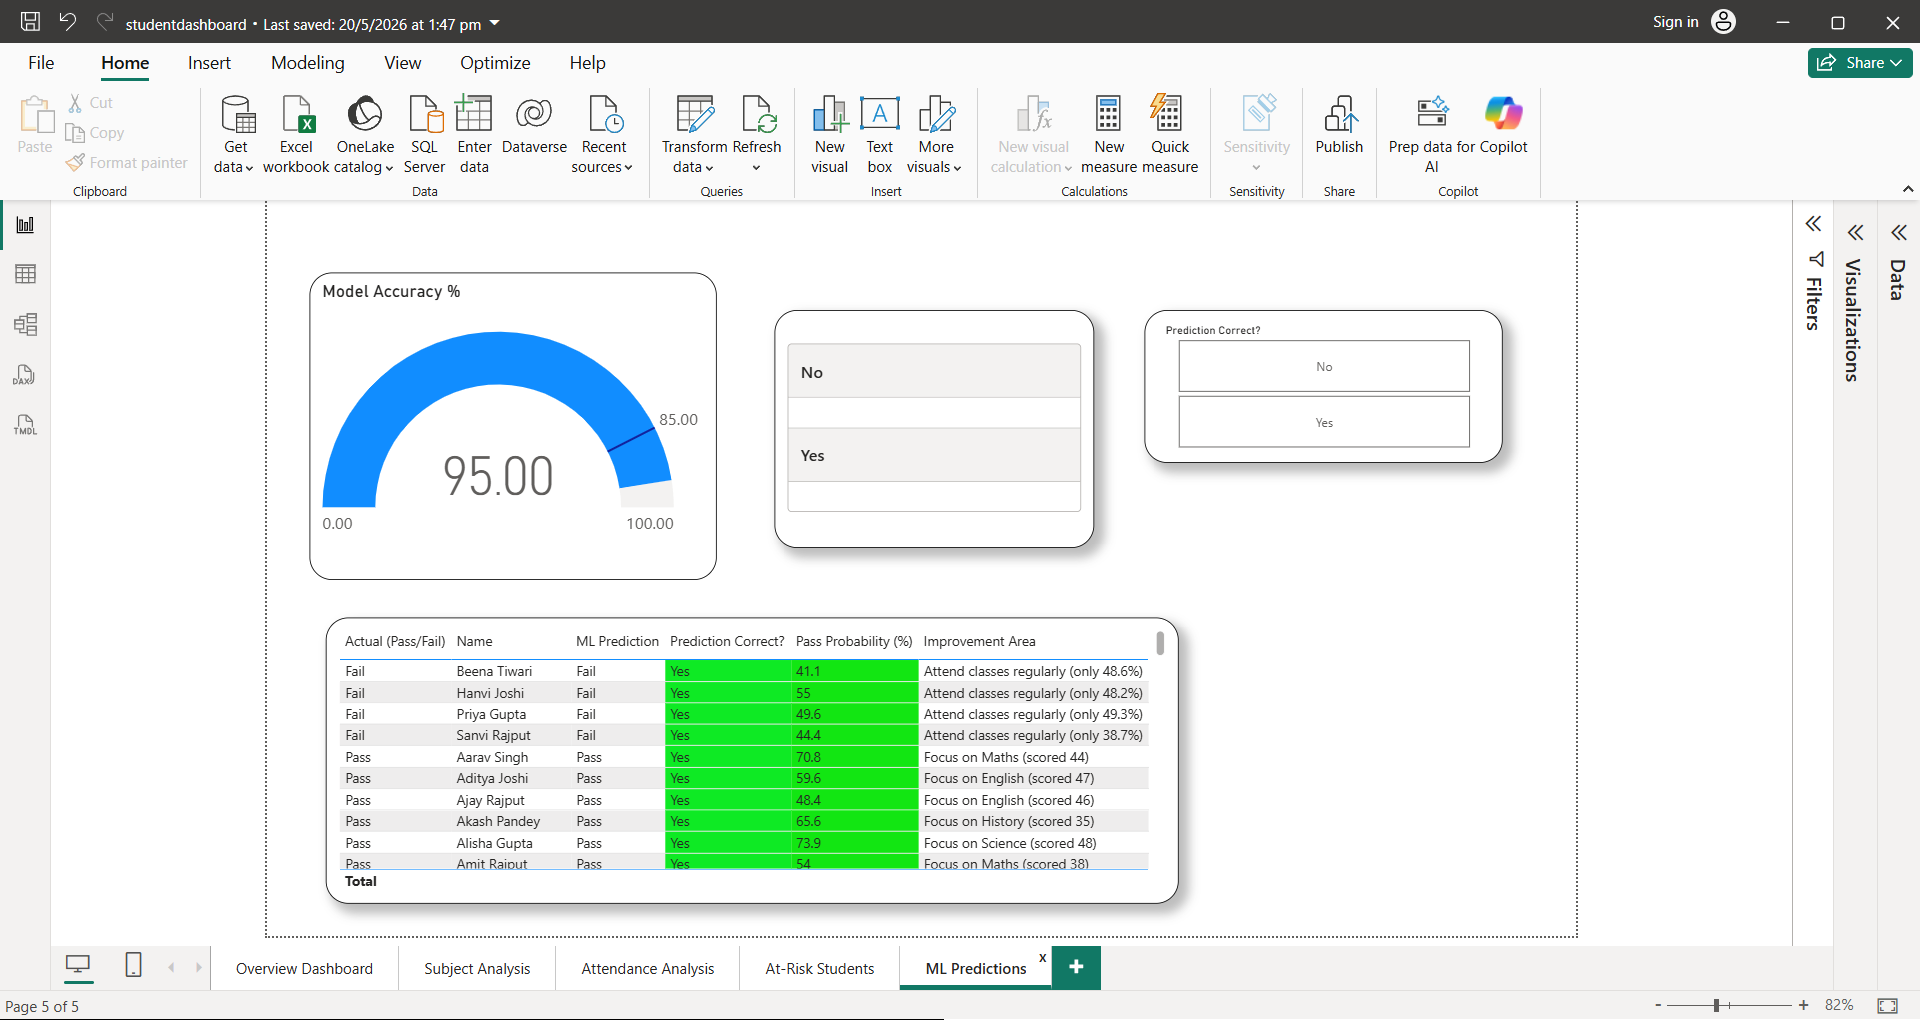

The dashboard page shown, as its layout file describes it:
{"tool":"powerbi","page":{"name":"ML Predictions","canvas":[1280,720],"ordinal":4},"visuals":[{"type":"gauge","fields":{"Y":["Student Data.Model Accuracy %"]},"box":[41.8,71,398.8,300.5],"z":0},{"type":"cardVisual","fields":{"Rows":["ML Model Results.Prediction Correct?"]},"box":[496,108,313.2,232.5],"z":1000},{"type":"tableEx","fields":{"Values":["ML Model Results.Actual (Pass/Fail)","ML Model Results.Name","ML Model Results.ML Prediction","ML Model Results.Prediction Correct?","ML Model Results.Pass Probability (%)","ML Model Results.Improvement Area"]},"box":[57.6,408.9,834.3,279.9],"z":2000},{"type":"slicer","fields":{"Values":["ML Model Results.Prediction Correct?"]},"box":[857.9,108,350.2,149.8],"z":3000}]}

Visuals, with their boxes on the page's 1280x720 design canvas (x1, y1, x2, y2). These are canvas units, not pixel positions in the 1920x1020 screenshot, which may show the page scaled, cropped or inside an application window:
gauge - Student Data.Model Accuracy %: bbox=(42, 71, 441, 372)
cardVisual - ML Model Results.Prediction Correct?: bbox=(496, 108, 809, 340)
tableEx - ML Model Results.Actual (Pass/Fail) x ML Model Results.Name: bbox=(58, 409, 892, 689)
slicer - ML Model Results.Prediction Correct?: bbox=(858, 108, 1208, 258)
